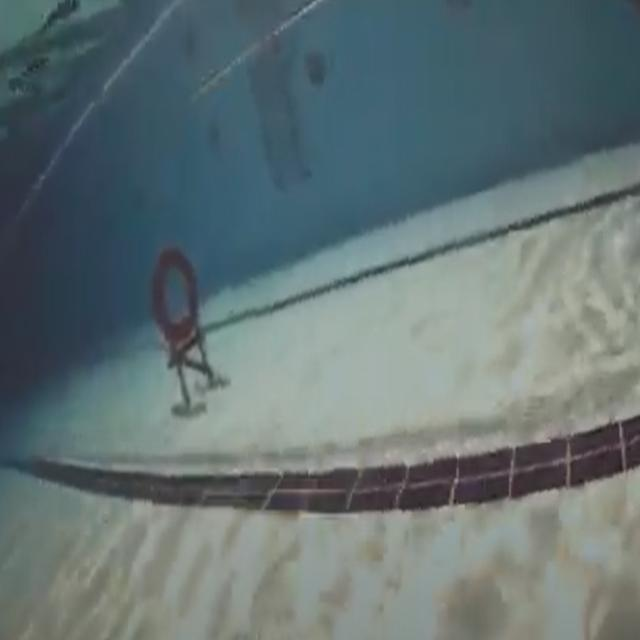Circle: (149, 239, 203, 343)
